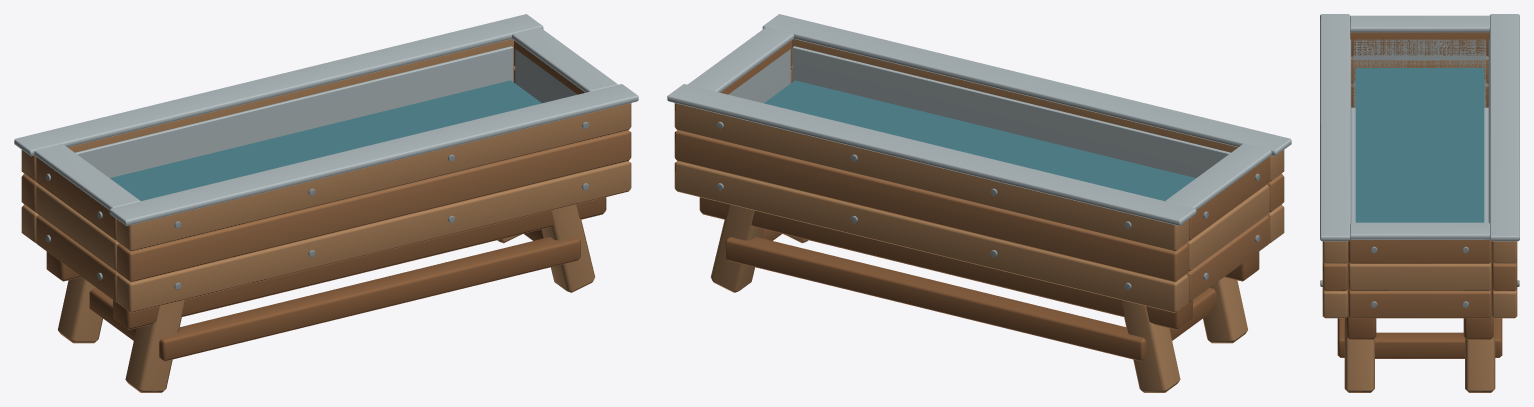
The picture shows the model from 3 angles, left to right: view 1: azimuth 30°, elevation 25°; view 2: azimuth 150°, elevation 25°; view 3: azimuth 270°, elevation 25°; orthographic projection. The views are drawn at different scales.
Parts seen in each view (by area): view 1: Long side wall plank.002, Long side wall plank, Liner • long inner wall.001, Long side wall plank.004, End cross brace, Water • falling level, Galvanized rim cap, Galvanized rim cap.001, Longitudinal bottom bearer, Long side wall plank.005, Splayed corner leg, Galvanized end rim cap (+9 smaller); view 2: Long side wall plank.003, Long side wall plank.001, Liner • long inner wall, Long side wall plank.005, End cross brace.001, Water • falling level, Galvanized rim cap.001, Galvanized rim cap, Longitudinal bottom bearer.001, Long side wall plank.004, Splayed corner leg.001, Galvanized end rim cap (+9 smaller); view 3: Water • falling level, Galvanized rim cap, Galvanized rim cap.001, End wall plank.003, End wall plank.001, Liner • end inner wall, End wall plank.005, End wall plank.004, Galvanized end rim cap.001, Galvanized end rim cap, Side cross brace.001, Splayed corner leg.002 (+15 smaller).
Boxes of the visible parts, x1,y1,x2,y2 form: Long side wall plank.002: (117, 130, 631, 282); Long side wall plank: (117, 161, 631, 312); Liner • long inner wall.001: (75, 46, 513, 177); Long side wall plank.004: (117, 103, 631, 251); End cross brace: (159, 237, 580, 361); Water • falling level: (110, 80, 541, 200); Galvanized rim cap: (109, 84, 638, 225); Galvanized rim cap.001: (14, 14, 543, 156); Longitudinal bottom bearer: (113, 197, 606, 329); Long side wall plank.005: (21, 39, 513, 181); Splayed corner leg: (125, 300, 184, 392); Galvanized end rim cap: (34, 143, 140, 210); Long side wall plank.003: (674, 130, 1188, 282); Long side wall plank.001: (674, 161, 1188, 312); Liner • long inner wall: (792, 46, 1230, 177); Long side wall plank.005: (674, 103, 1188, 251); End cross brace.001: (725, 237, 1146, 361); Water • falling level: (764, 80, 1195, 200); Galvanized rim cap.001: (667, 84, 1196, 225); Galvanized rim cap: (762, 14, 1291, 156); Longitudinal bottom bearer.001: (699, 197, 1192, 329); Long side wall plank.004: (792, 39, 1284, 181); Splayed corner leg.001: (1121, 300, 1180, 392); Galvanized end rim cap: (1165, 143, 1271, 210); Water • falling level: (1355, 68, 1484, 222); Galvanized rim cap: (1320, 14, 1350, 241); Galvanized rim cap.001: (1489, 14, 1519, 241); End wall plank.003: (1348, 262, 1491, 291); End wall plank.001: (1348, 289, 1491, 318); Liner • end inner wall: (1352, 39, 1487, 107); End wall plank.005: (1348, 239, 1491, 263); End wall plank.004: (1350, 32, 1489, 56); Galvanized end rim cap.001: (1350, 222, 1489, 239); Galvanized end rim cap: (1350, 15, 1489, 32); Side cross brace.001: (1375, 332, 1464, 358); Splayed corner leg.002: (1344, 318, 1374, 392).
Bounding box in the file's own units: 1.84 × 0.6734 × 0.697.
